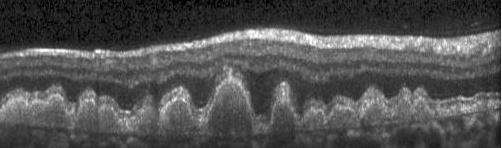retinal_drusen: (206, 82, 252, 138), (1, 97, 67, 128), (161, 101, 194, 133), (97, 105, 122, 132), (272, 105, 294, 134), (74, 101, 94, 131), (361, 103, 388, 125), (326, 109, 358, 126), (135, 106, 155, 133), (396, 97, 414, 120), (304, 111, 324, 129), (415, 100, 433, 117), (477, 99, 489, 111), (452, 106, 462, 114)
